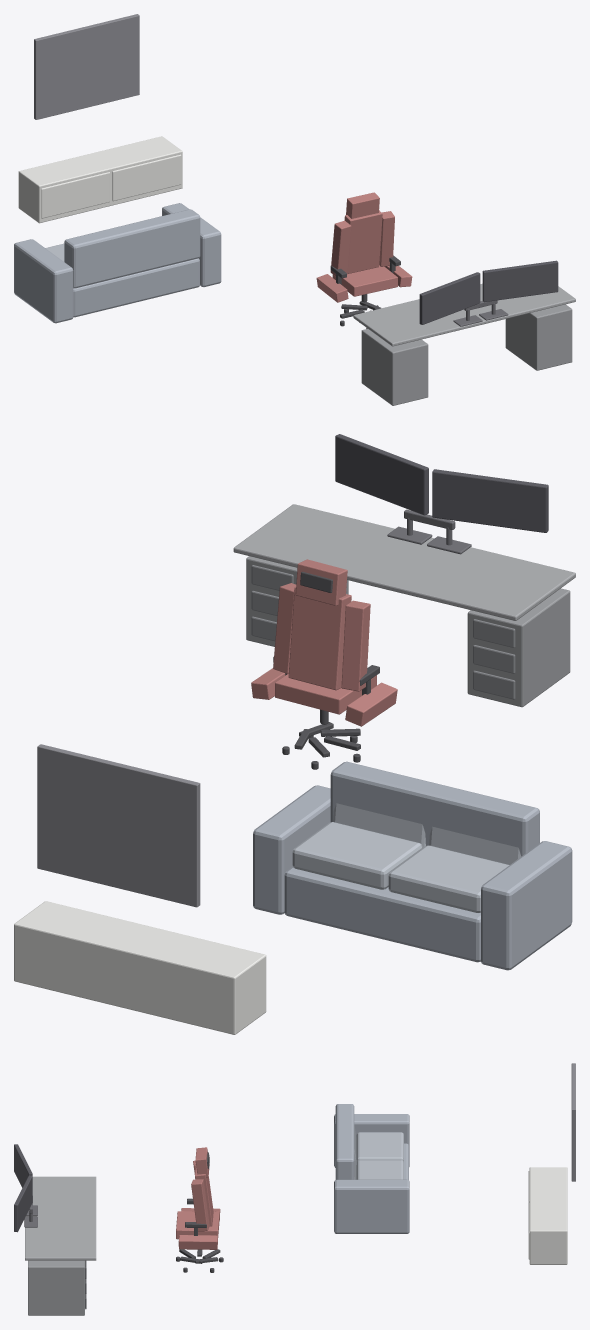
Rendered from agent_scene.glb.
3 renders of one model, top to bottom at view 1: azimuth 30°, elevation 25°; view 2: azimuth 150°, elevation 25°; view 3: azimuth 270°, elevation 25°, orthographic. The views are drawn at different scales.
Visible parts, largest first — view 1: sofa, desk, bench, tv_panel, chair, monitors; view 2: sofa, desk, bench, tv_panel, chair, monitors; view 3: sofa, desk, bench, chair, monitors, tv_panel.
Part boxes in pixels (x1,y1,x2,y2): sofa: [14, 203, 221, 323]; desk: [353, 283, 575, 405]; bench: [18, 136, 182, 223]; tv_panel: [34, 14, 139, 119]; chair: [316, 192, 412, 328]; monitors: [419, 260, 558, 326]; sofa: [253, 761, 572, 970]; desk: [233, 504, 575, 707]; bench: [14, 901, 266, 1034]; tv_panel: [37, 744, 200, 907]; chair: [251, 559, 397, 769]; monitors: [335, 434, 548, 554]; sofa: [334, 1104, 409, 1233]; desk: [25, 1176, 96, 1315]; bench: [528, 1167, 567, 1264]; chair: [176, 1147, 223, 1272]; monitors: [14, 1144, 37, 1232]; tv_panel: [571, 1063, 575, 1181].
Bounding box in the file's own units: 4.4 × 1.93 × 6.68.
